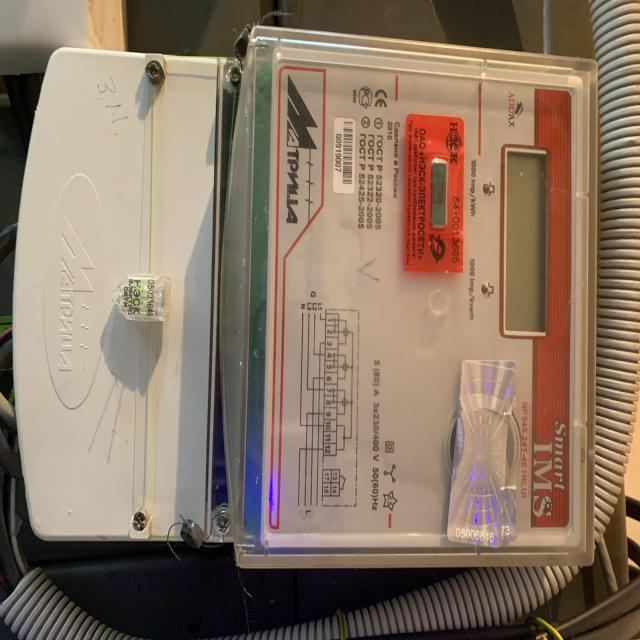Display: (504, 148, 549, 336)
meter_matrica: (16, 48, 603, 560)
seal_elso: (115, 265, 176, 332)
seal_imp: (403, 110, 465, 278)
